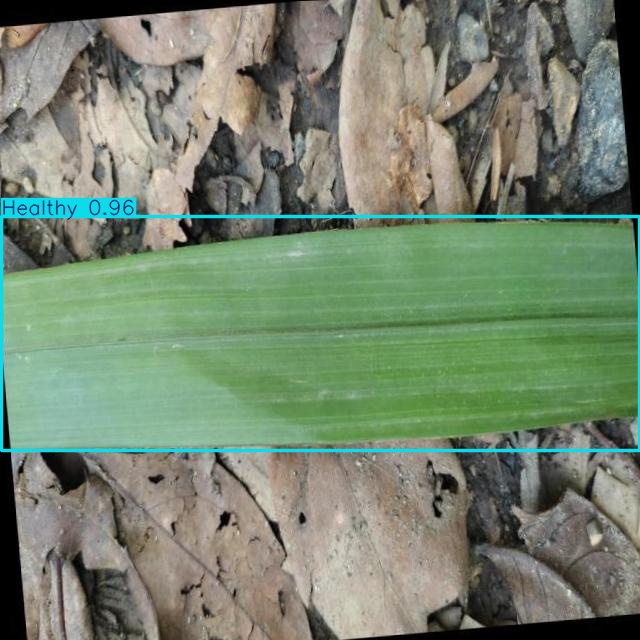Healthy: (1, 217, 639, 451)
